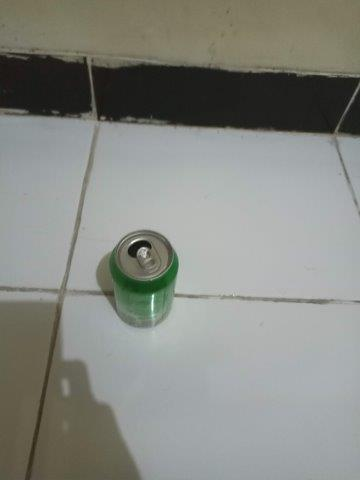kaleng: (110, 230, 180, 328)
